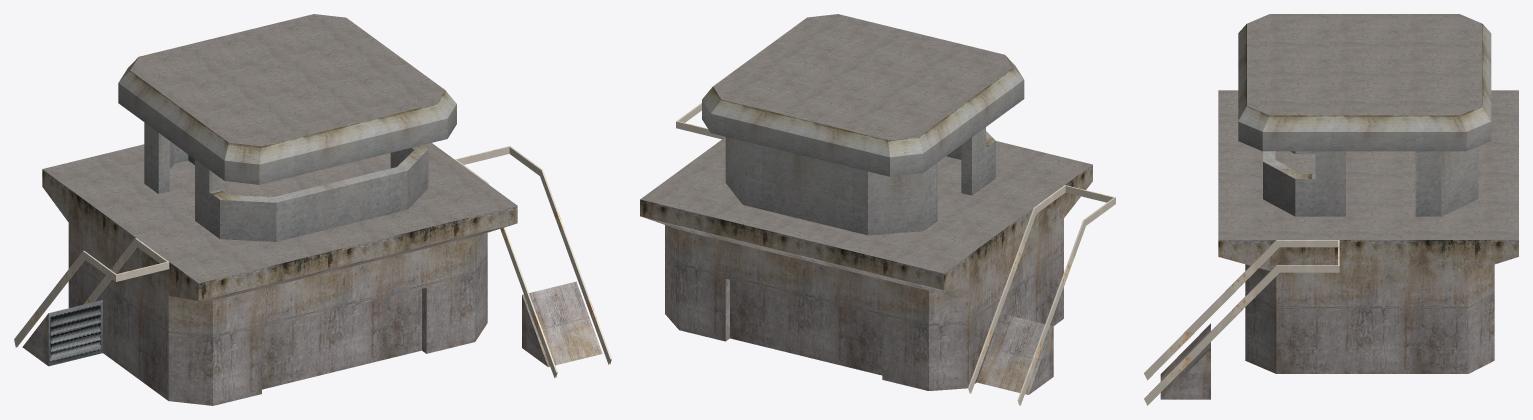
File: a51_gatecontrol.obj
The picture shows the model from 3 angles, left to right: view 1: azimuth 30°, elevation 25°; view 2: azimuth 150°, elevation 25°; view 3: azimuth 270°, elevation 25°; orthographic projection. The views are drawn at different scales.
Visible parts, largest first — view 1: a51_gatecontrol; view 2: a51_gatecontrol; view 3: a51_gatecontrol.
Boxes of the visible parts, x1=… form: a51_gatecontrol: x1=14, y1=14, x2=611, y2=405; a51_gatecontrol: x1=640, y1=14, x2=1115, y2=405; a51_gatecontrol: x1=1144, y1=14, x2=1518, y2=405.
Bounding box in the file's own units: 13.59 × 7.66 × 10.7.
8 materials, 8 textured.
